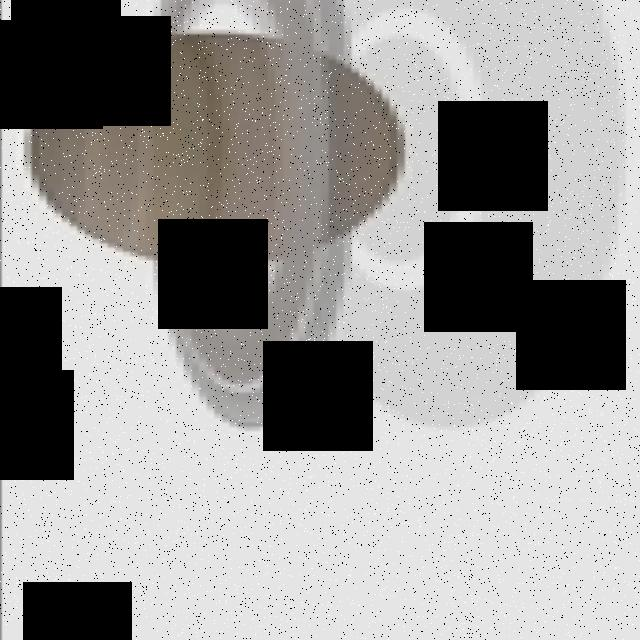Saturn: (23, 0, 404, 435)
